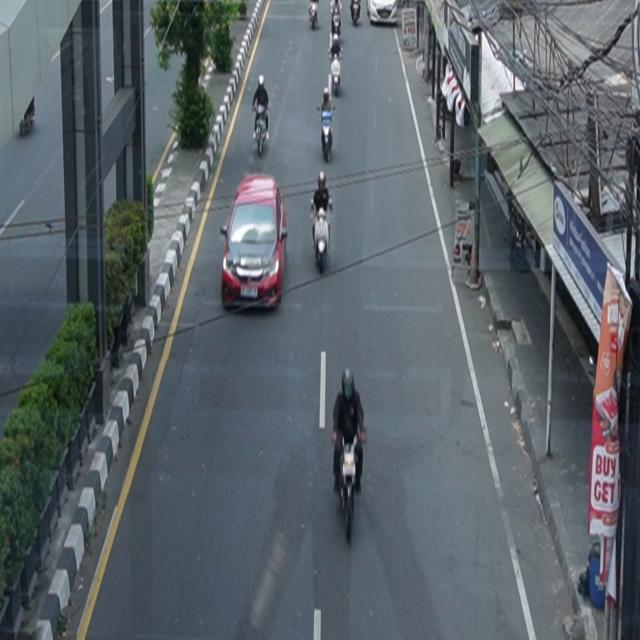car: (221, 174, 289, 312)
